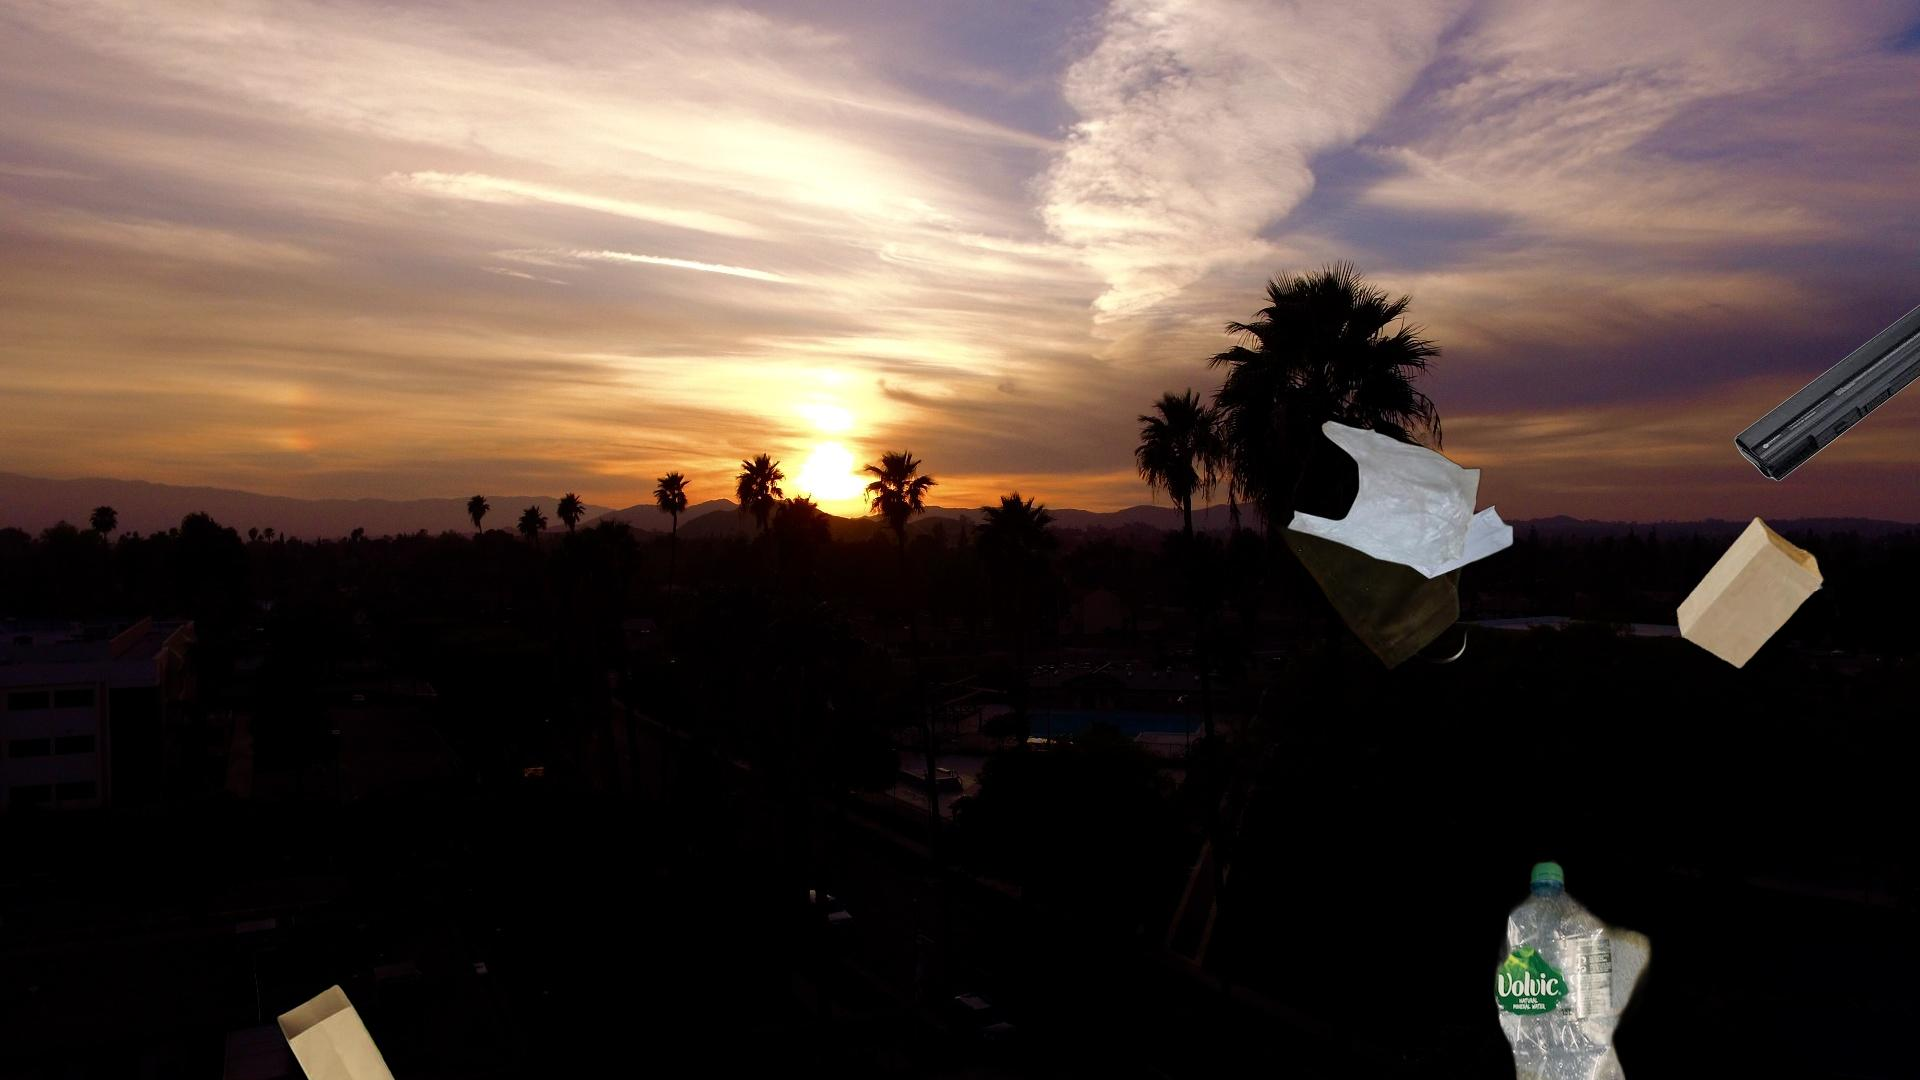battery: (1734, 285, 1920, 483)
paper-bag: (1675, 513, 1828, 671), (196, 981, 433, 1080)
plastic-bag: (1261, 418, 1516, 674)
plastic-bottles: (1484, 855, 1659, 1080)
